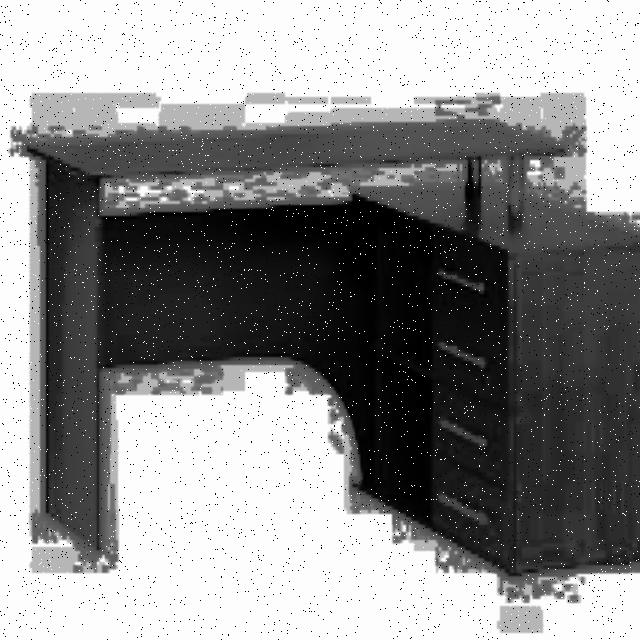table: (21, 119, 640, 576)
